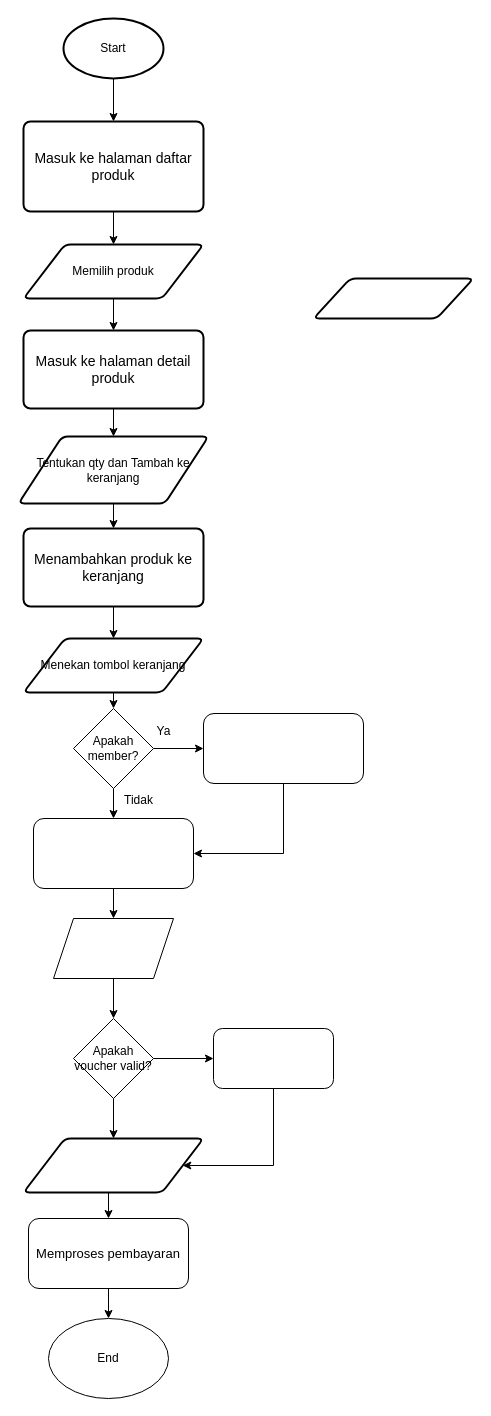
This 491x1416 diagram has some shape labels left out. The centre of each missing label's shape, as x and y in pixels:
Memilih: the point at 393,298
Menampilkan detail produk di keranjang dan kalkulasi harga: the point at 113,853
Menekan tombol checkout: the point at 113,1165
Menerapkan diskon member: the point at 283,748
Menerapkan efek dar voucher (diskon/cashback): the point at 273,1058
User memasukkan voucher: the point at 113,948
